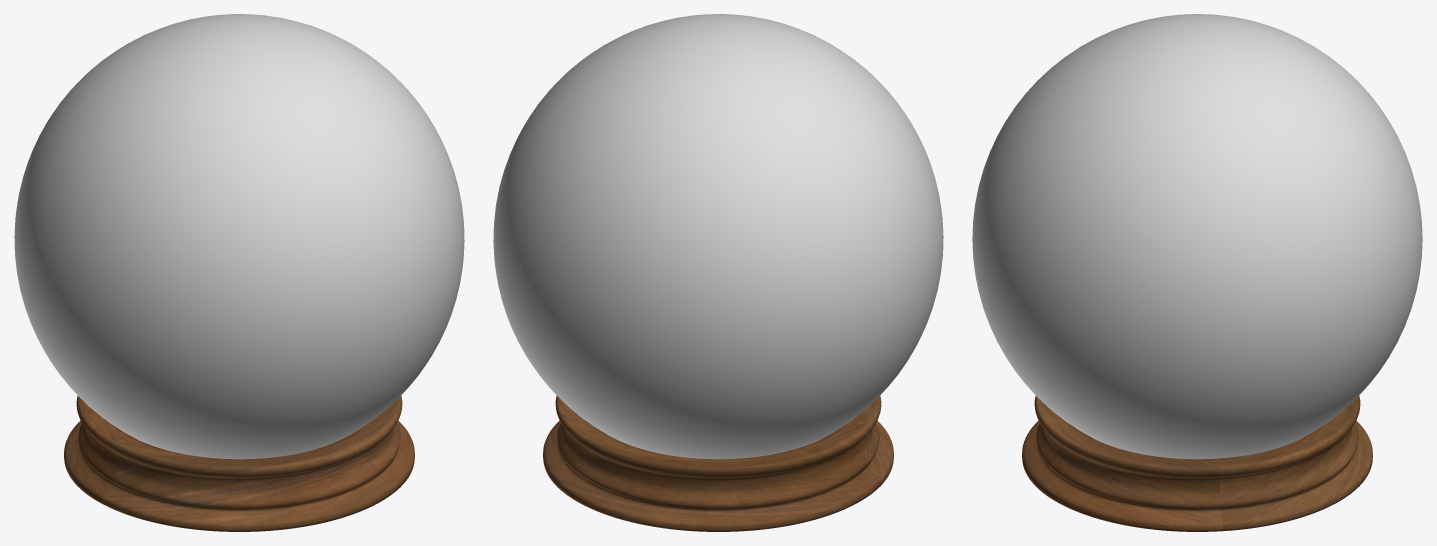
File: crystallball.glb
The picture shows the model from 3 angles, left to right: view 1: azimuth 30°, elevation 25°; view 2: azimuth 150°, elevation 25°; view 3: azimuth 270°, elevation 25°; orthographic projection.
Parts seen in each view (by area): view 1: ball, stall; view 2: ball, stall; view 3: ball, stall.
Part boxes in pixels (<box>): ball: <box>14,14,464,459</box>; stall: <box>64,395,414,531</box>; ball: <box>493,14,943,459</box>; stall: <box>543,395,893,531</box>; ball: <box>972,14,1422,459</box>; stall: <box>1022,395,1372,531</box>.
Bounding box in the file's own units: 4 × 4.17 × 4.
1 material, 1 textured.
